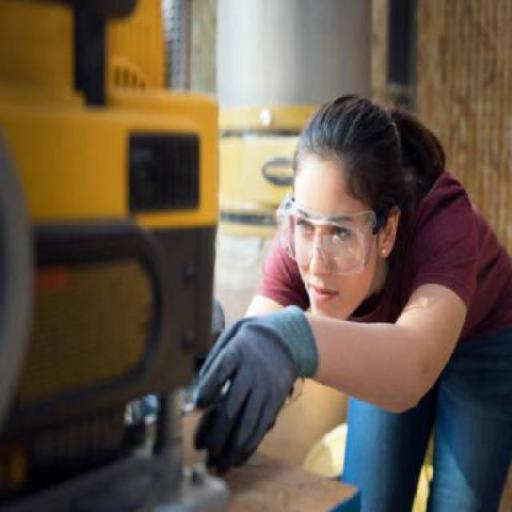glass: (269, 184, 378, 278)
person: (222, 76, 508, 502)
